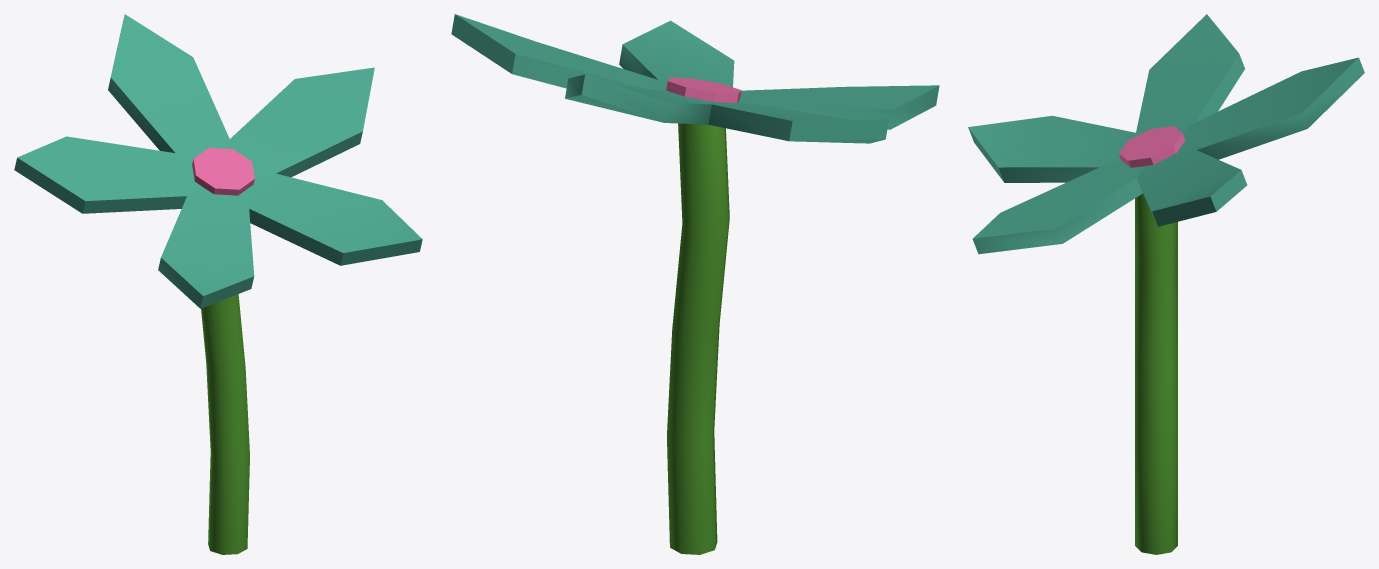
File: Flower_Turquoise_1.fbx
3 renders of one model, left to right at view 1: azimuth 30°, elevation 25°; view 2: azimuth 150°, elevation 25°; view 3: azimuth 270°, elevation 25°, orthographic. The views are drawn at different scales.
Visible parts, largest first — view 1: Cube.141, Cylinder.647, Cylinder.648; view 2: Cube.141, Cylinder.647, Cylinder.648; view 3: Cube.141, Cylinder.647, Cylinder.648.
Part boxes in pixels (x1,y1,x2,y2): Cube.141: (14,14,422,308); Cylinder.647: (201,294,249,554); Cylinder.648: (192,147,254,195); Cube.141: (451,14,939,143); Cylinder.647: (667,123,729,554); Cylinder.648: (666,77,741,103); Cube.141: (968,14,1364,254); Cylinder.647: (1135,193,1177,554); Cylinder.648: (1118,126,1185,167).
Bounding box in the file's own units: 71.56 × 88.17 × 65.36.
